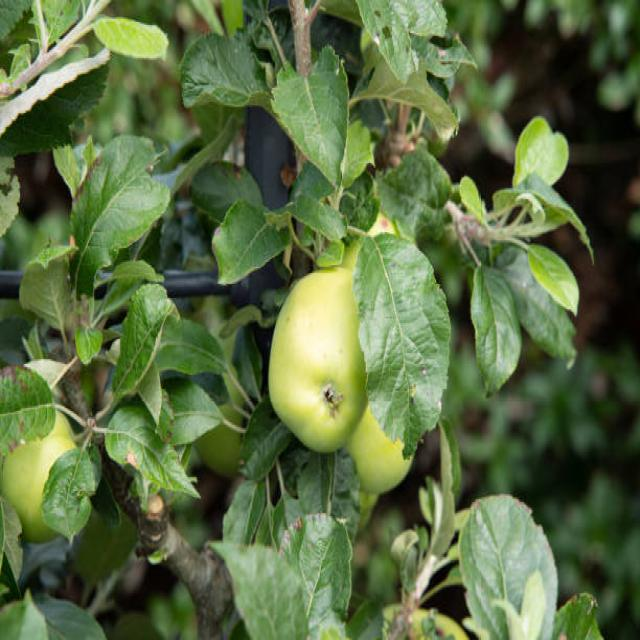Unripe: (270, 268, 376, 453)
